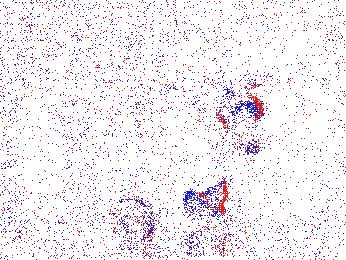flame jellyfish: (217, 91, 261, 156), (183, 179, 231, 229), (108, 198, 154, 243)
